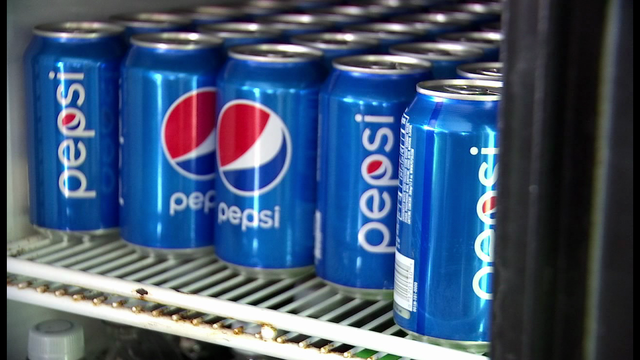pepsi: (216, 97, 290, 195), (160, 85, 218, 180), (163, 80, 218, 180), (163, 85, 218, 180), (364, 157, 385, 178), (479, 194, 496, 218), (480, 196, 497, 220), (364, 159, 385, 178), (58, 111, 79, 130), (58, 111, 79, 129)
